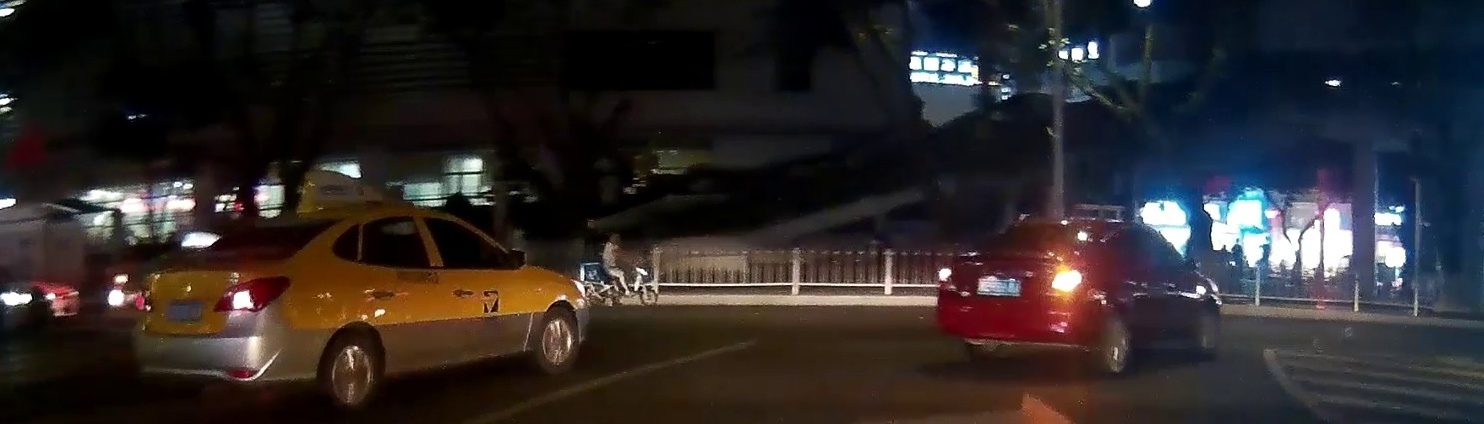L_light: (133, 287, 154, 313), (938, 266, 956, 291)
R_light: (212, 273, 290, 315), (1049, 270, 1084, 292)
T_light: (260, 218, 297, 228), (1046, 223, 1074, 230)
night-right: (130, 210, 351, 405), (932, 217, 1120, 371)
